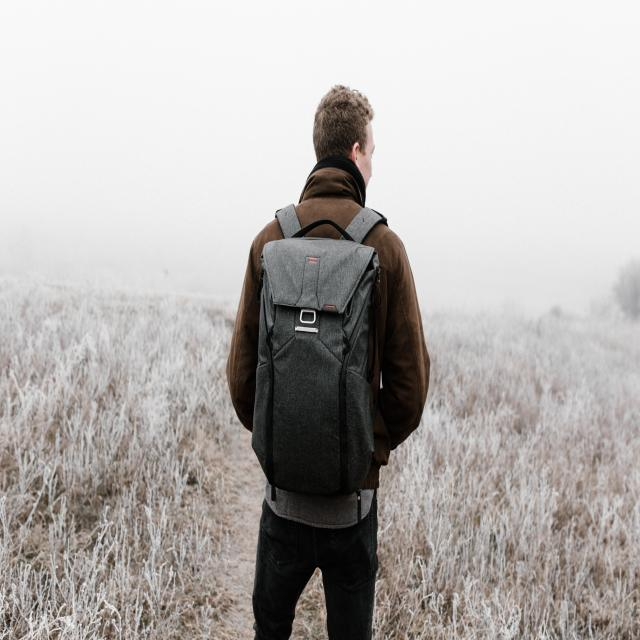backpack: (249, 205, 389, 494)
